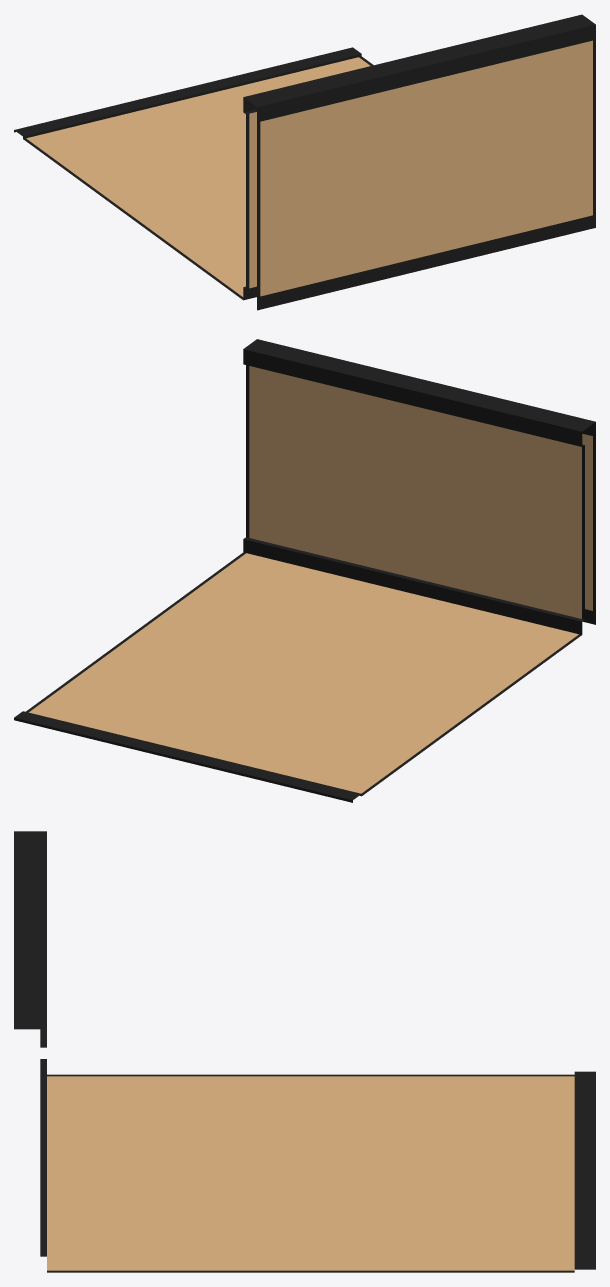
File: SM_URPWater_Walls.fbx
3 views of the same model, one above another, from view 1: azimuth 30°, elevation 25°; view 2: azimuth 150°, elevation 25°; view 3: azimuth 270°, elevation 25° (orthographic). The views are drawn at different scales.
Parts seen in each view (by area): view 1: SM_Wall_Module; view 2: SM_Wall_Module; view 3: SM_Wall_Module.
Part boxes in pixels (x1=…): SM_Wall_Module: x1=14, y1=14, x2=595, y2=310; SM_Wall_Module: x1=14, y1=339, x2=595, y2=802; SM_Wall_Module: x1=14, y1=831, x2=595, y2=1272.
Bounding box in the file's own units: 4074 × 2335 × 5062.
